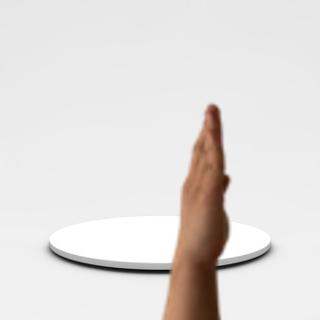RIGHT: (167, 93, 237, 268)
